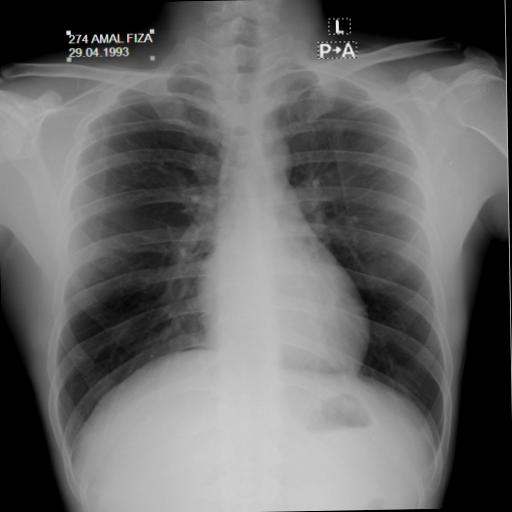normal: (42, 36, 458, 462)
